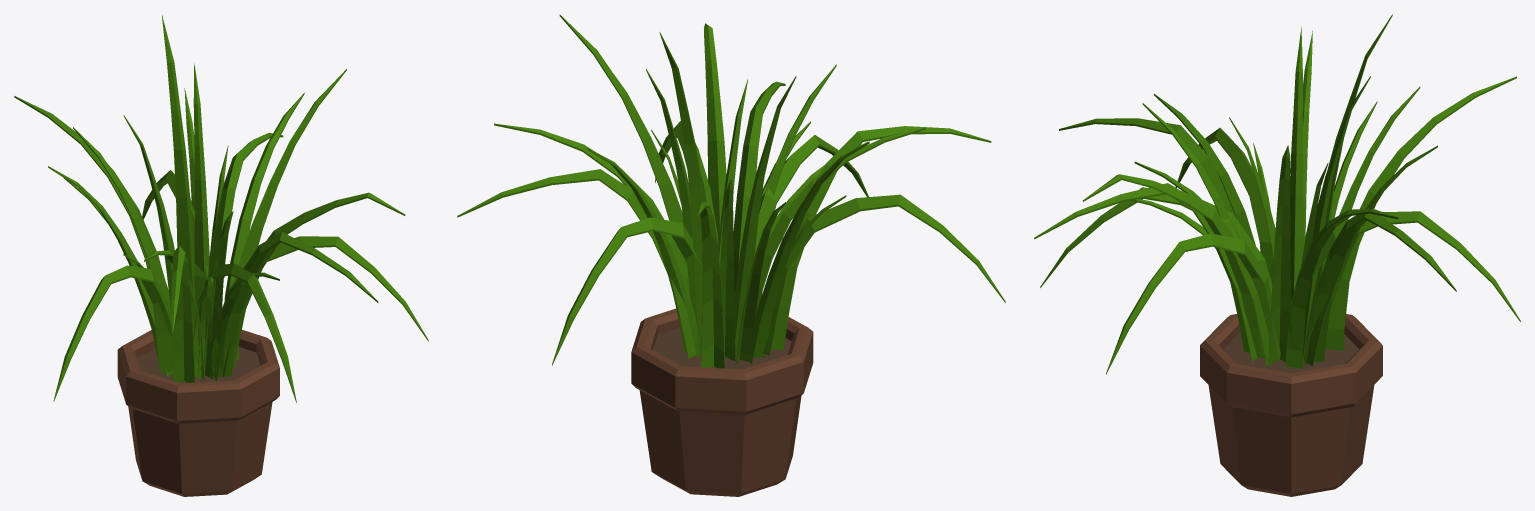
File: TallPlant.fbx
The picture shows the model from 3 angles, left to right: view 1: azimuth 30°, elevation 25°; view 2: azimuth 150°, elevation 25°; view 3: azimuth 270°, elevation 25°; orthographic projection. The views are drawn at different scales.
Parts seen in each view (by area): view 1: Plant2; view 2: Plant2; view 3: Plant2.
Boxes of the visible parts, x1,y1,x2,y2 form: Plant2: (14, 15, 428, 496); Plant2: (457, 14, 1005, 496); Plant2: (1034, 14, 1520, 496).
Size of the model in its own units: 1.42 by 1.6 by 1.53.
1 material, 1 textured.
